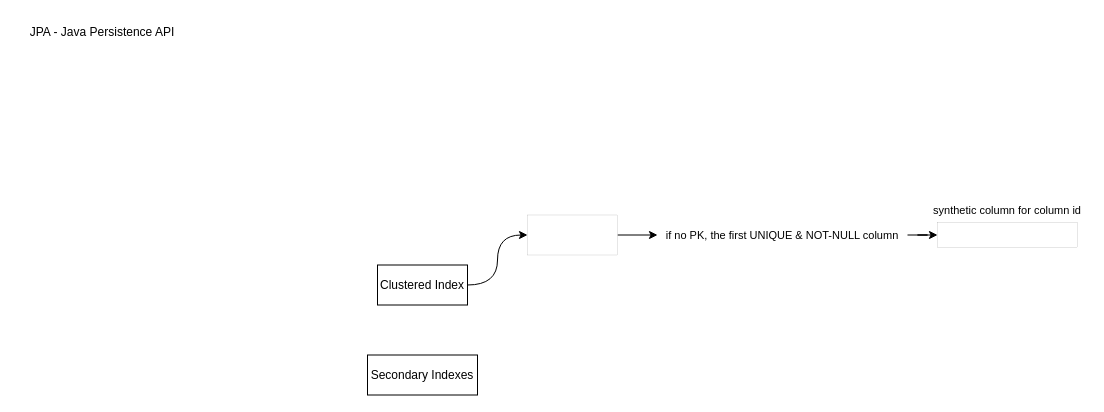
The diagram is 1104 pixels wide and 412 high, and some of its shapes have lost their labels. The shapes that lost their labels are listed below. From the top down, each one's box as (x1, y1, x2, y2) in pixels, then its label:
(527, 214, 617, 254): Primary Key
(937, 222, 1077, 247): GEN_CLUST_INDEX
